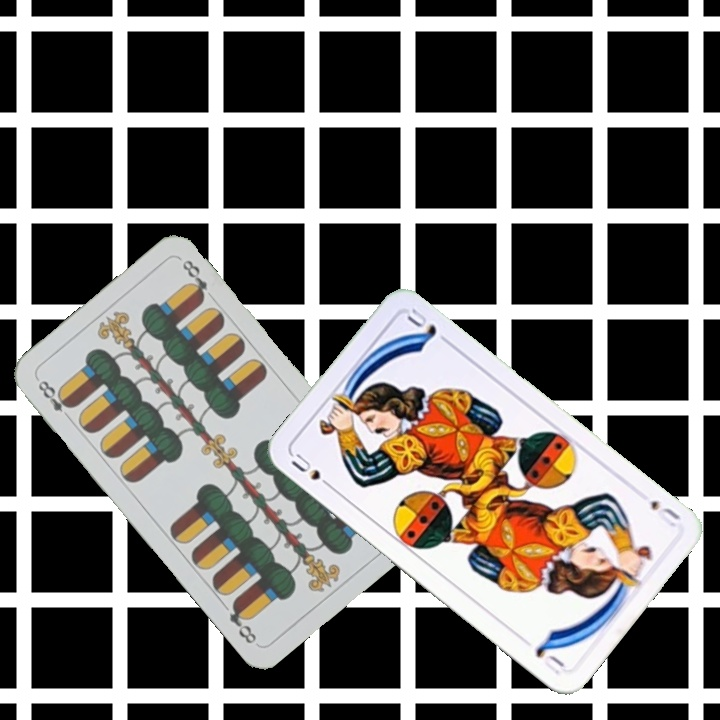E8: (34, 376, 77, 424)
SU: (287, 449, 338, 493), (646, 496, 683, 530)
